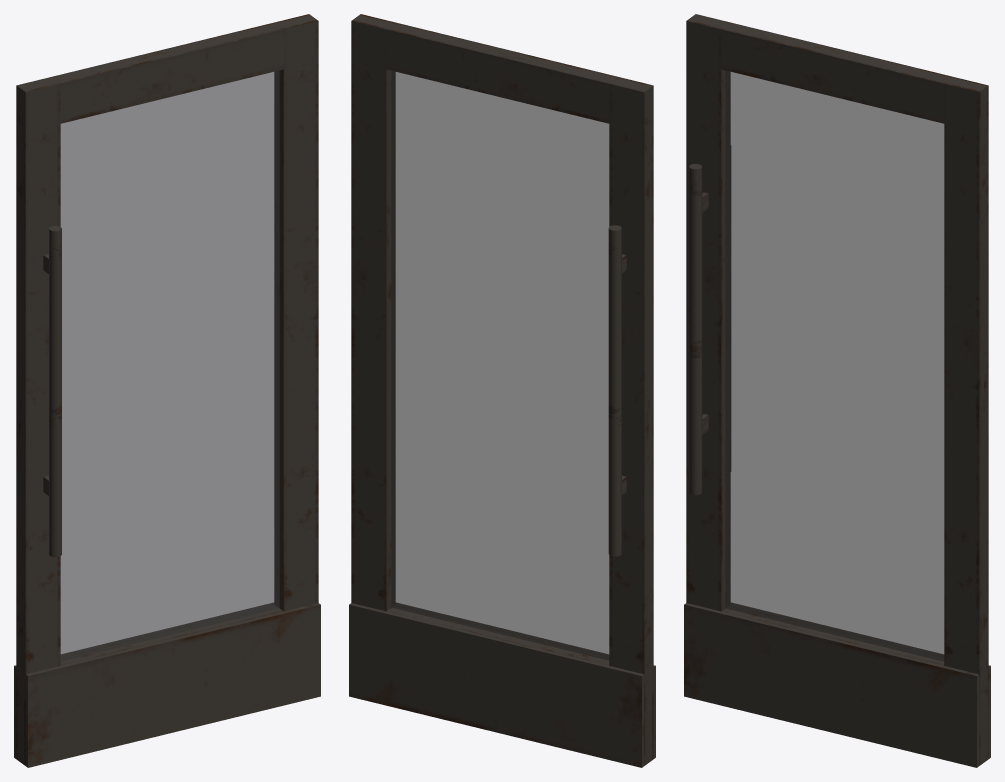
Rendered from door_2.glb.
3 views of the same model, side by side, from view 1: azimuth 30°, elevation 25°; view 2: azimuth 150°, elevation 25°; view 3: azimuth 330°, elevation 25° (orthographic).
Parts seen in each view (by area): view 1: Door_2; view 2: Door_2; view 3: Door_2.
Part boxes in pixels (x1,y1,x2,y2): Door_2: [14, 14, 320, 767]; Door_2: [349, 14, 655, 767]; Door_2: [684, 14, 990, 767].
Bounding box in the file's own units: 1 × 2.2 × 0.2103.
Materials: 2 (1 with a texture image).
